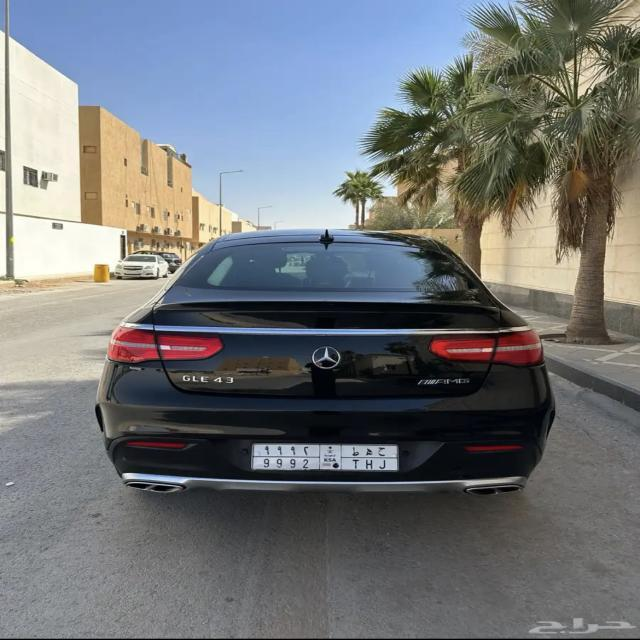license_plate: (252, 442, 402, 475)
